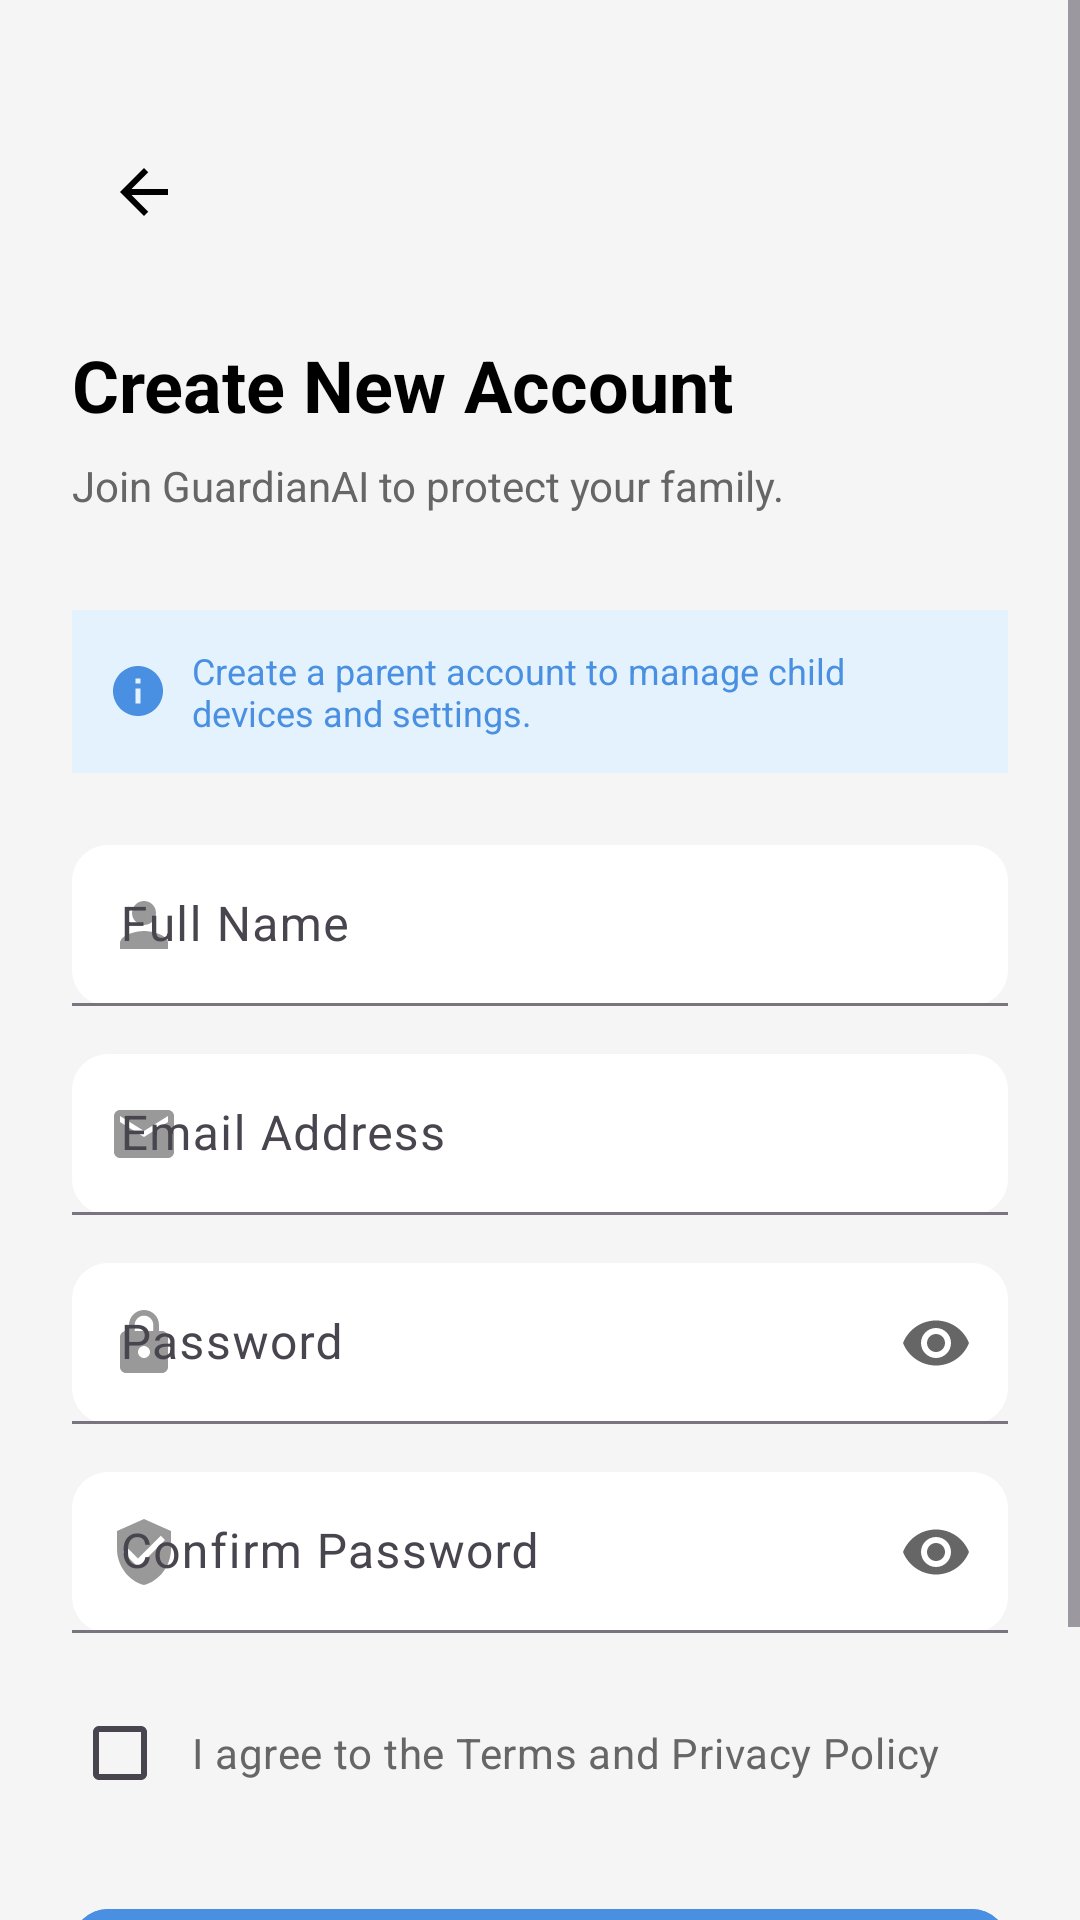

Locate icon controls on the screen. Image size 1080x1920, boxes as (x1,y1,x2,y2).
Back: (120,168,168,216)
Info: (113,666,163,716)
